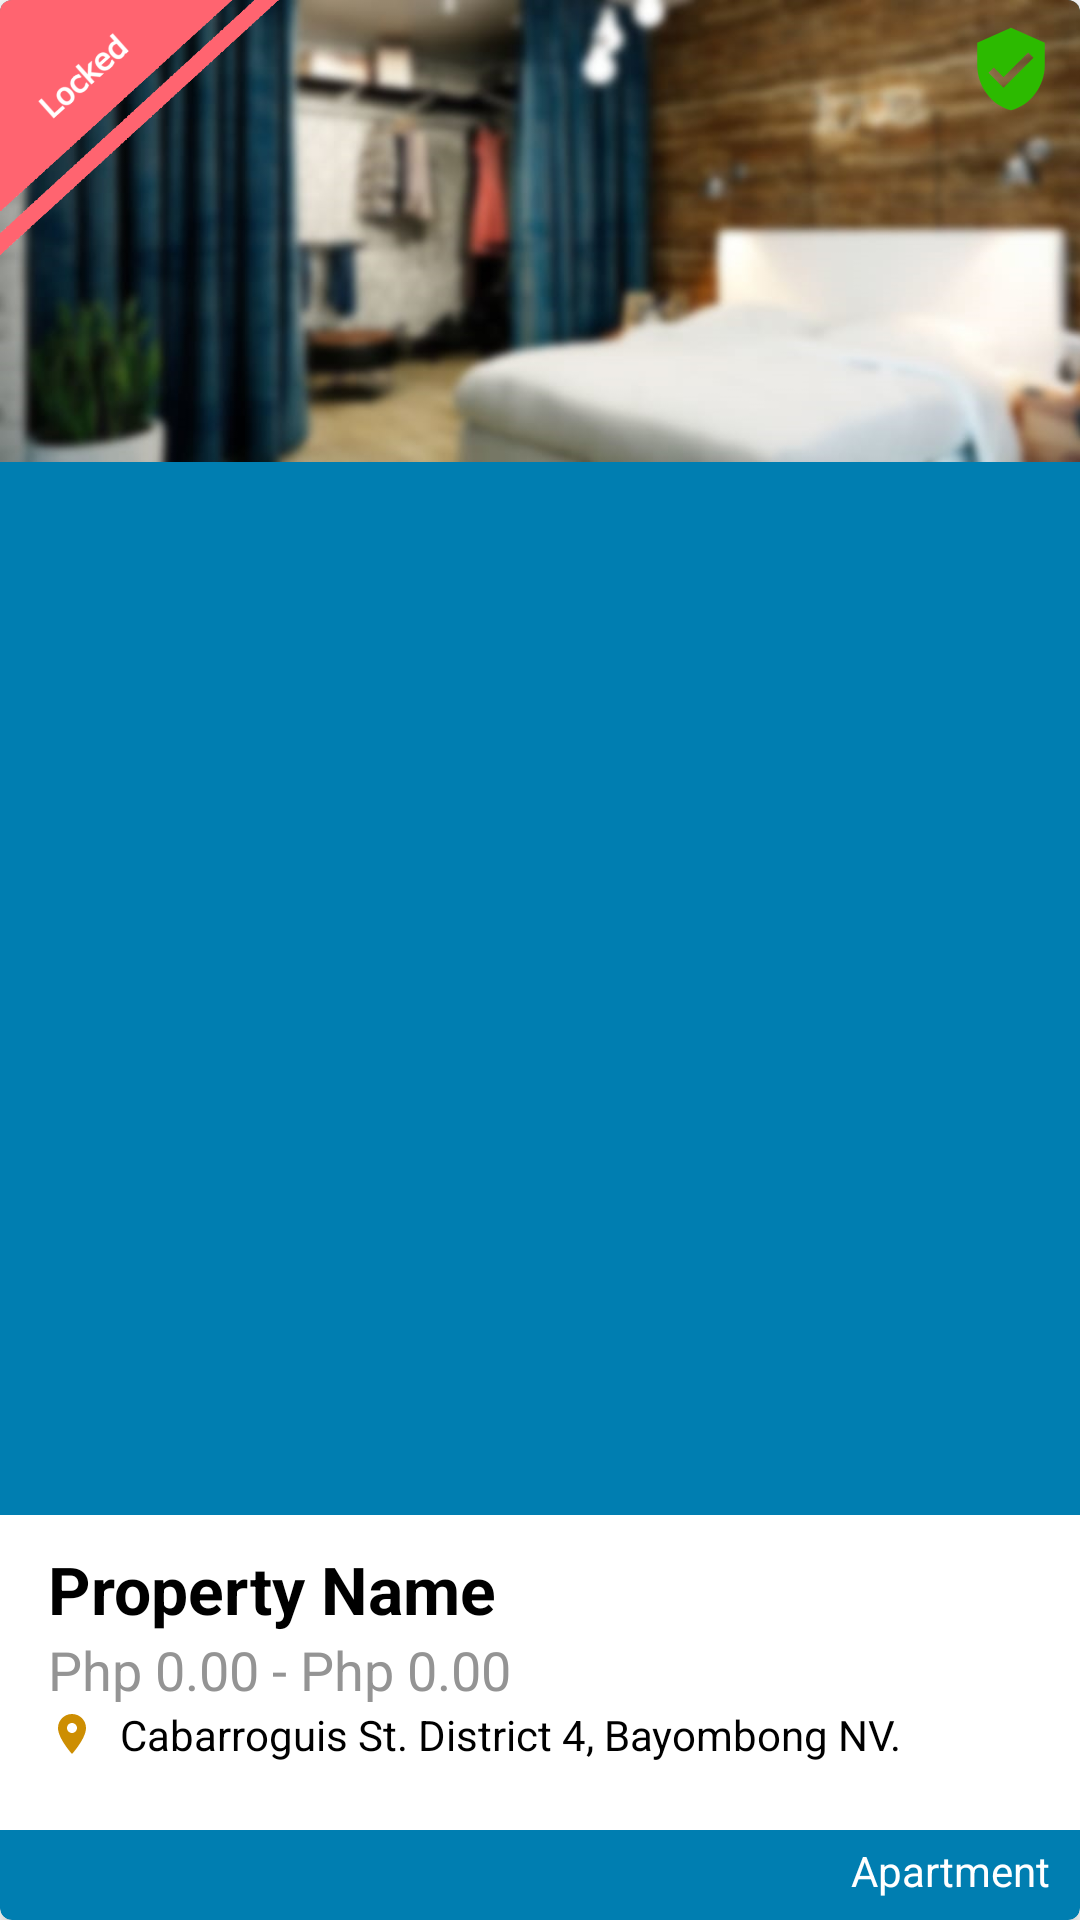

Screen size 1080px x 1920px. Icon name, then its center in pixels as (x=x, y=y):
address: (x=72, y=1734)
verified: (x=1011, y=71)
